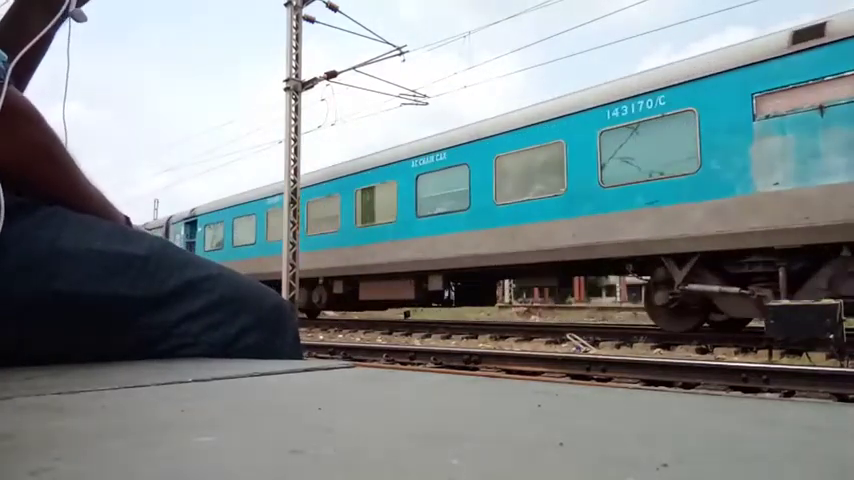Boogie: (598, 96, 647, 119)
Car Type: (404, 150, 456, 174)
